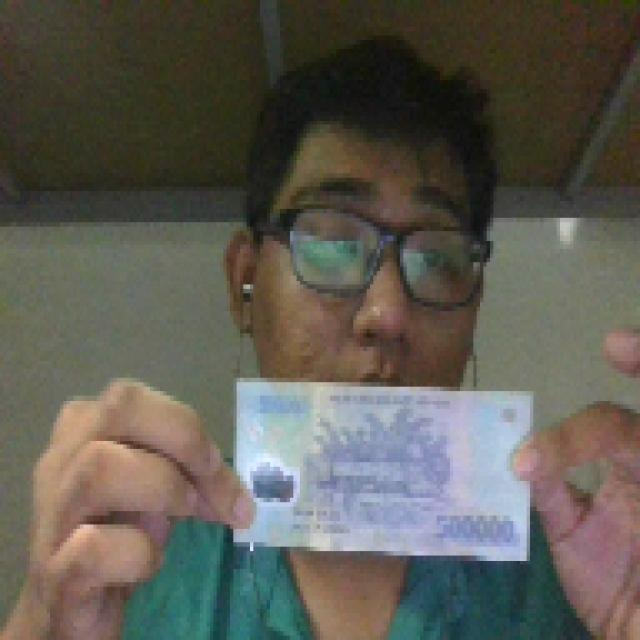500 000 VND: (226, 369, 536, 564)
